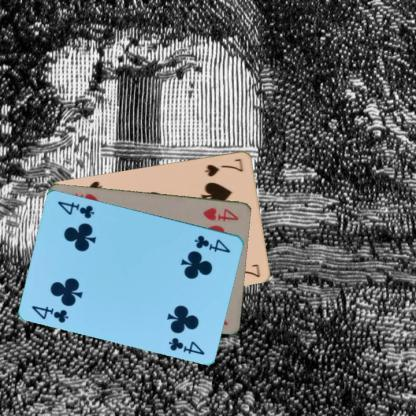4c: (29, 302, 70, 324), (192, 232, 232, 254)
4h: (200, 204, 240, 223)
7s: (203, 155, 245, 178)
